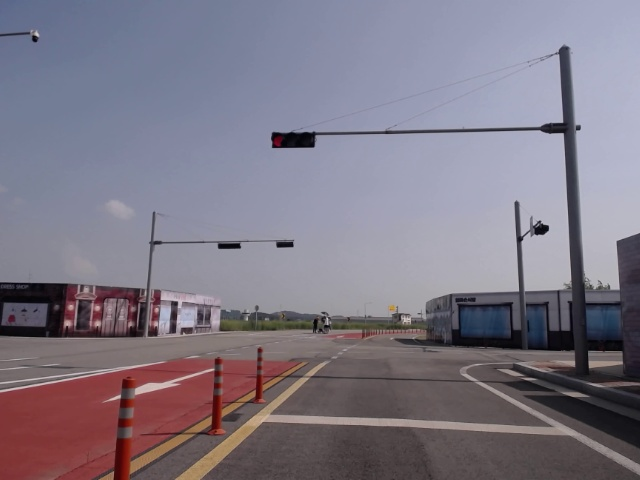red_3: (271, 134, 314, 147)
